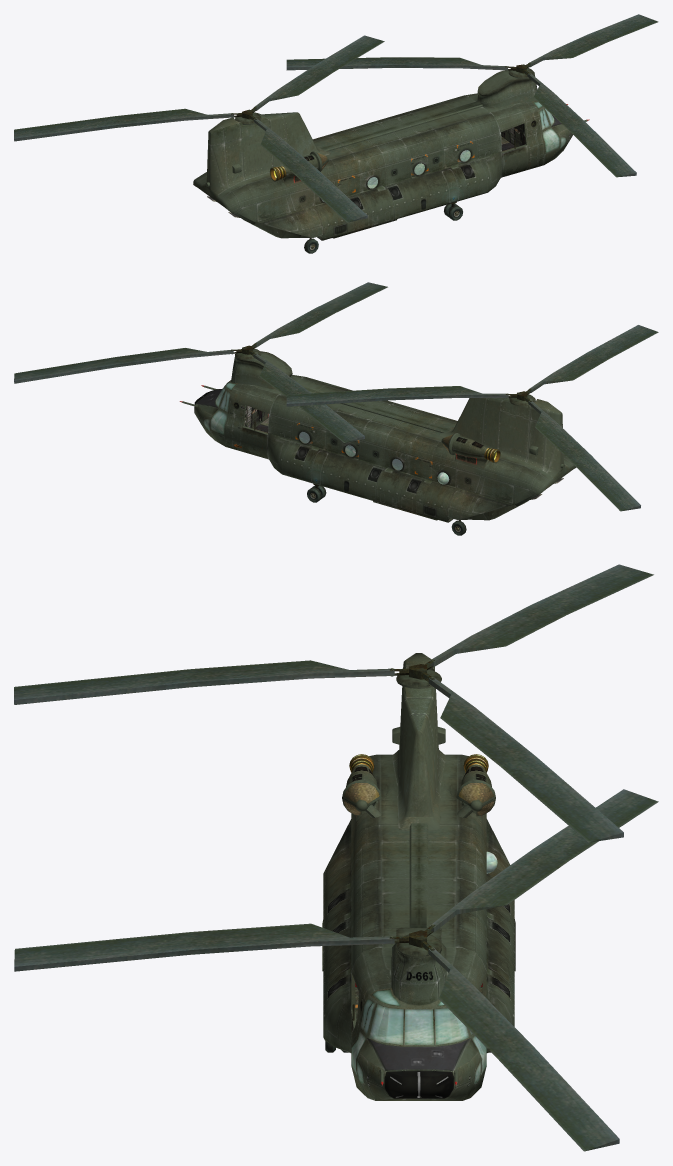
The model's file is candav_heli.FBX.
The picture shows the model from 3 angles, top to bottom: view 1: azimuth 30°, elevation 25°; view 2: azimuth 150°, elevation 25°; view 3: azimuth 270°, elevation 25°; orthographic projection. The views are drawn at different scales.
Parts seen in each view (by area): view 1: C5_Chinook, C5_Chinook_Rotor_02, C5_Chinook_Rotor_01, C5_Chinook_Ramp; view 2: C5_Chinook, C5_Chinook_Rotor_02, C5_Chinook_Rotor_01, C5_Chinook_Windows, C5_Chinook_Ramp; view 3: C5_Chinook, C5_Chinook_Rotor_01, C5_Chinook_Rotor_02.
Boxes of the visible parts, x1,y1,x2,y2 form: C5_Chinook: [193, 70, 589, 253]; C5_Chinook_Rotor_02: [14, 35, 384, 222]; C5_Chinook_Rotor_01: [286, 14, 658, 177]; C5_Chinook_Ramp: [207, 196, 300, 238]; C5_Chinook: [179, 351, 576, 535]; C5_Chinook_Rotor_02: [286, 325, 658, 511]; C5_Chinook_Rotor_01: [14, 282, 387, 442]; C5_Chinook_Windows: [299, 431, 449, 484]; C5_Chinook_Ramp: [469, 478, 563, 520]; C5_Chinook: [322, 653, 515, 1100]; C5_Chinook_Rotor_01: [14, 789, 658, 1151]; C5_Chinook_Rotor_02: [14, 564, 653, 842].
Bounding box in the file's own units: 2.7 × 1.38 × 0.5443.
